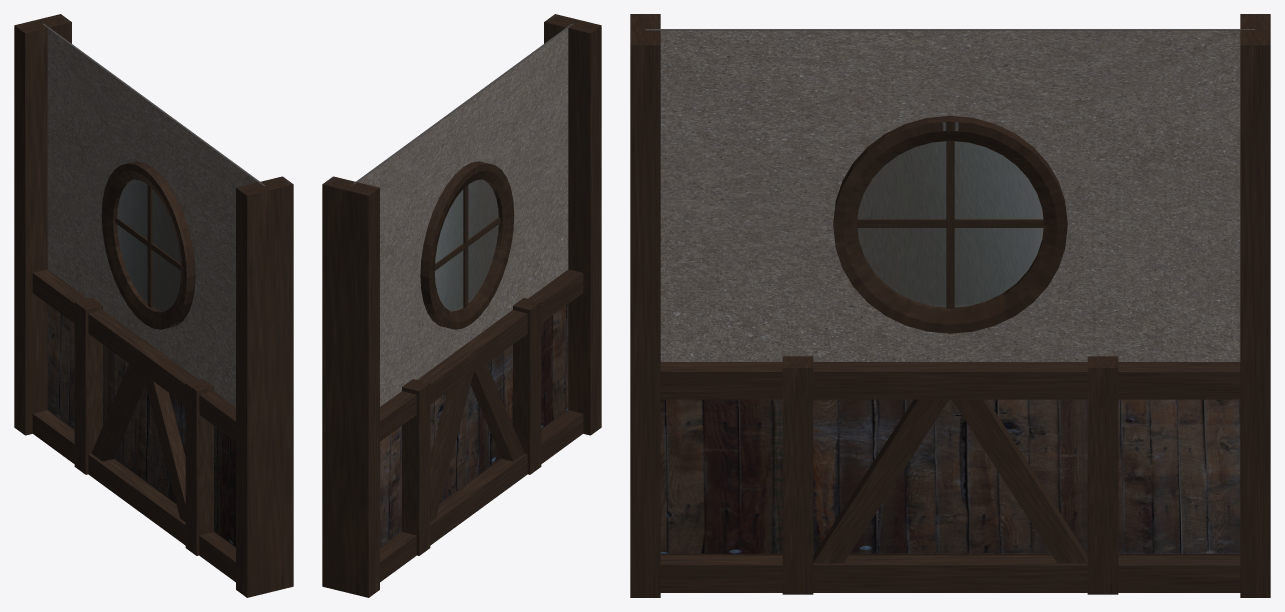
The model's file is OutdoorArchitecture_BasicWall03_Window02_BothEdges_BShortt.fbx.
The picture shows the model from 3 angles, left to right: view 1: azimuth 30°, elevation 25°; view 2: azimuth 150°, elevation 25°; view 3: azimuth 270°, elevation 25°; orthographic projection. The views are drawn at different scales.
Parts seen in each view (by area): view 1: OutdoorArchitecture_BasicWall03_Window02_BothEdges_BShortt; view 2: OutdoorArchitecture_BasicWall03_Window02_BothEdges_BShortt; view 3: OutdoorArchitecture_BasicWall03_Window02_BothEdges_BShortt.
Part boxes in pixels (bbox=[...]): OutdoorArchitecture_BasicWall03_Window02_BothEdges_BShortt: bbox=[14, 14, 293, 597]; OutdoorArchitecture_BasicWall03_Window02_BothEdges_BShortt: bbox=[322, 14, 601, 597]; OutdoorArchitecture_BasicWall03_Window02_BothEdges_BShortt: bbox=[630, 14, 1270, 597].
Bounding box in the file's own units: 36.37 × 300 × 315.
